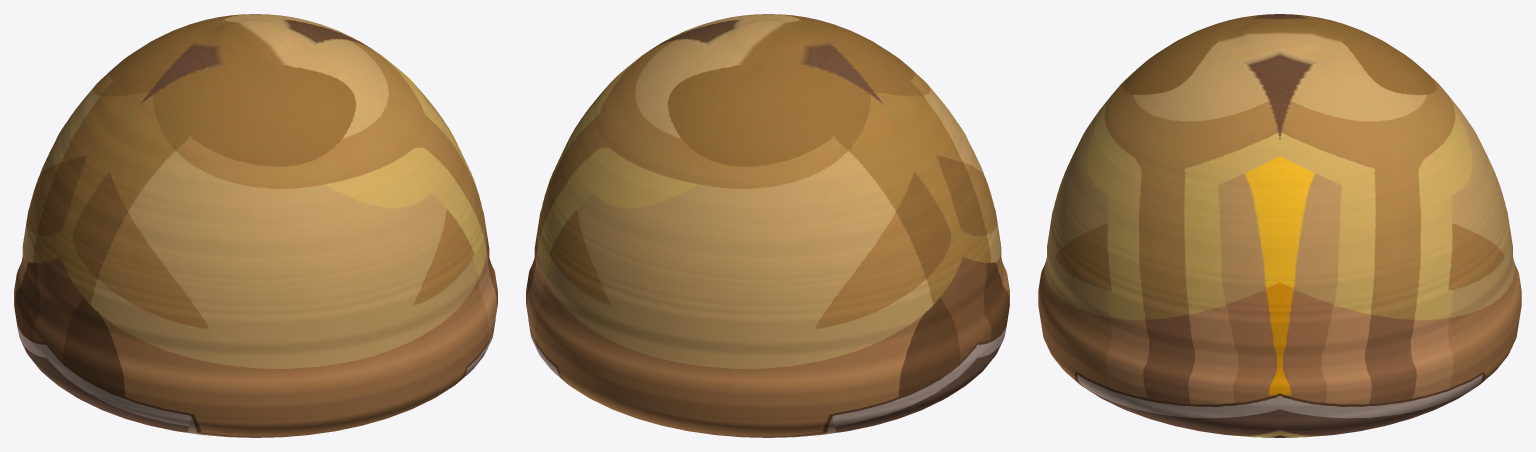
The model's file is amber_dome.glb.
The picture shows the model from 3 angles, left to right: view 1: azimuth 30°, elevation 25°; view 2: azimuth 150°, elevation 25°; view 3: azimuth 270°, elevation 25°; orthographic projection.
Visible parts, largest first — view 1: amber_dome; view 2: amber_dome; view 3: amber_dome.
Part boxes in pixels (x1,y1,x2,y2): amber_dome: [14, 14, 497, 437]; amber_dome: [526, 14, 1009, 437]; amber_dome: [1038, 14, 1521, 437].
Bounding box in the file's own units: 1 × 0.7932 × 1.
1 material, 1 textured.
